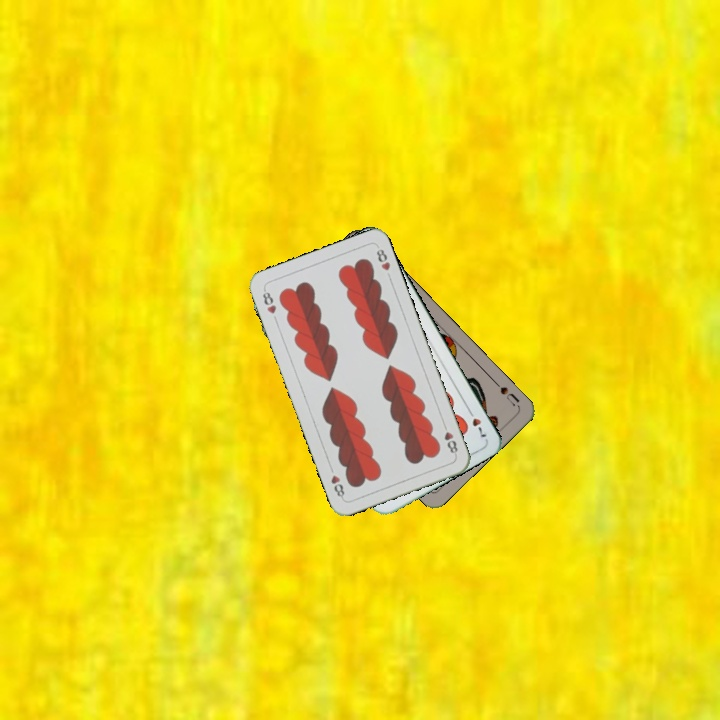H7: (463, 404, 489, 441)
H8: (439, 419, 460, 458), (258, 285, 279, 316)
SU: (490, 377, 522, 408)
